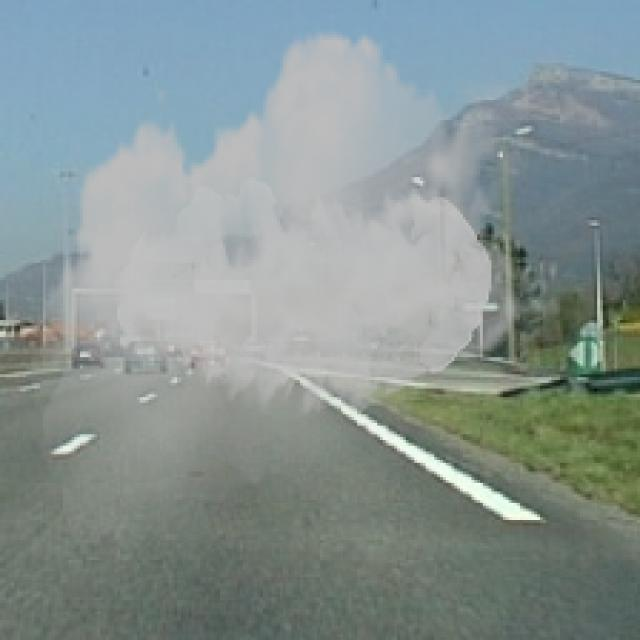Smoke: (31, 8, 563, 574)
